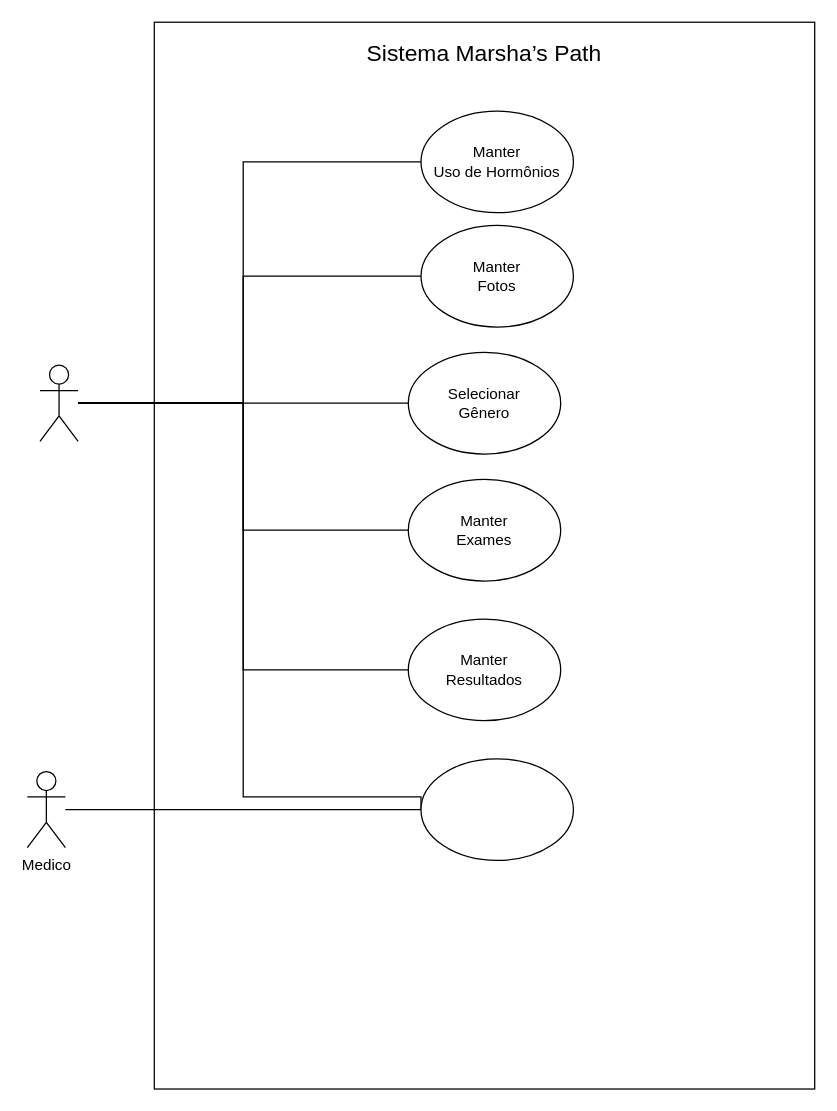
Some shapes in this 837 by 1111 pixel diagram are drawn without their labels. The shapes that lost their labels are listed below. From the top down, each one's centre as x and y in pixels, then its label:
At point (58, 402): "Pessoa".
At point (496, 809): "Manter Consultas".
